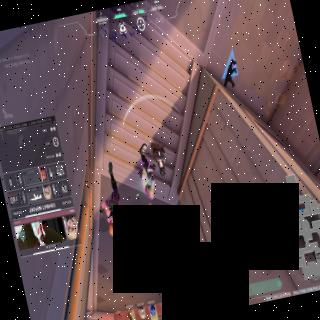ENEMY-BODY: (89, 158, 133, 250), (132, 141, 160, 203)
ENEMY-HEAD: (107, 218, 120, 240), (144, 183, 156, 201)
